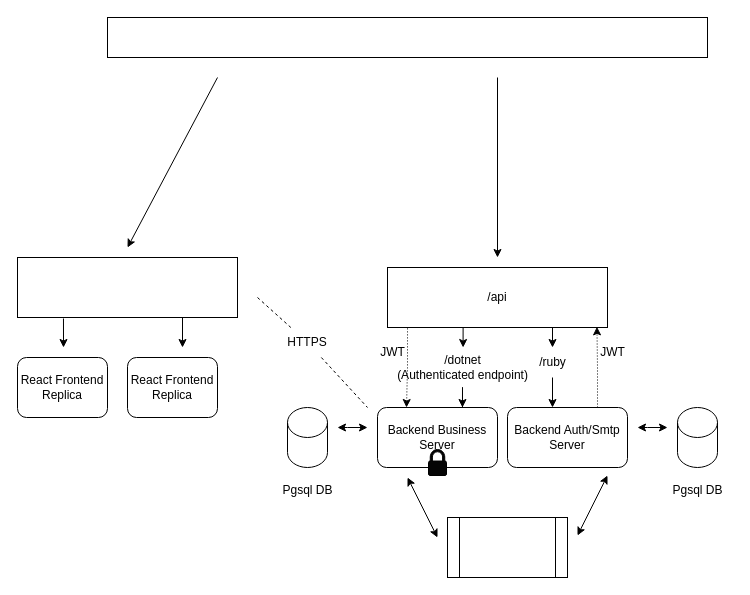
This 750x595 diagram has some shape labels left out. The centre of each missing label's shape, as x and y in pixels:
"/frontend" goes at pixel 127 287.
"NGINX LOAD BALANCER" goes at pixel 407 37.
"RabbitMq BUS" goes at pixel 507 547.
